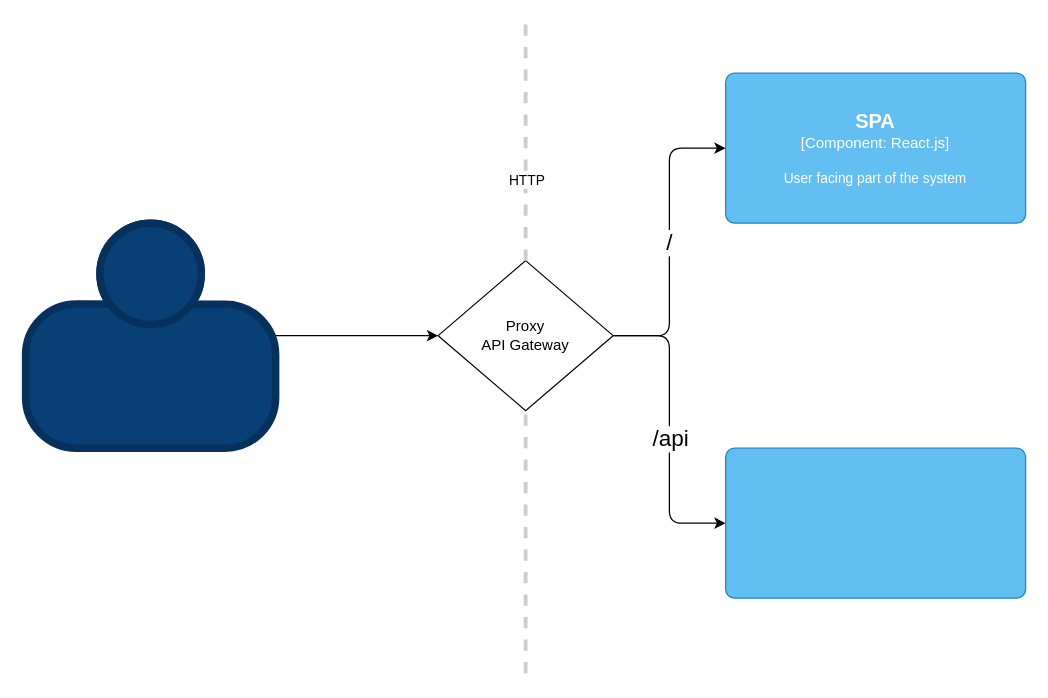
The diagram is 1048 pixels wide and 698 high, and some of its shapes have lost their labels. The shapes that lost their labels are listed below. From the top down, each one's centre as x and y in pixels, then its label:
At pixel 150 335: "Person name [Person] Description of person.".
At pixel 875 522: "API Service [Component: Express.js, Node.js] Backend service part of the system.".
